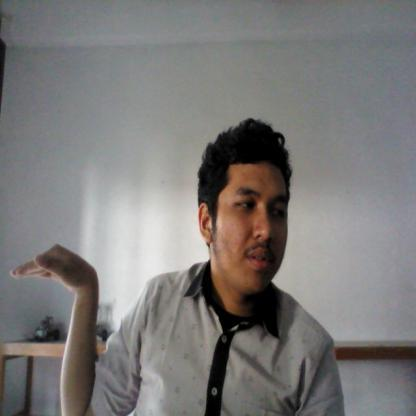Z: (9, 243, 99, 416)
